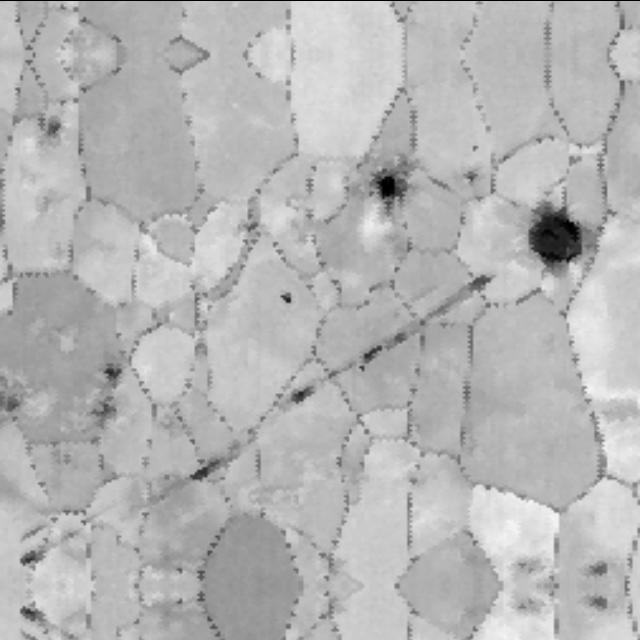good_void: (517, 195, 599, 279), (339, 325, 420, 384), (357, 169, 411, 225), (186, 446, 239, 484), (6, 532, 50, 576), (6, 596, 50, 640), (282, 375, 323, 419), (577, 548, 614, 586), (577, 586, 614, 624), (509, 550, 549, 581), (509, 591, 549, 622), (93, 389, 128, 424), (466, 259, 502, 288), (232, 202, 261, 237), (39, 108, 67, 139), (99, 358, 124, 387), (279, 285, 295, 311), (465, 135, 484, 155), (462, 167, 482, 183)
